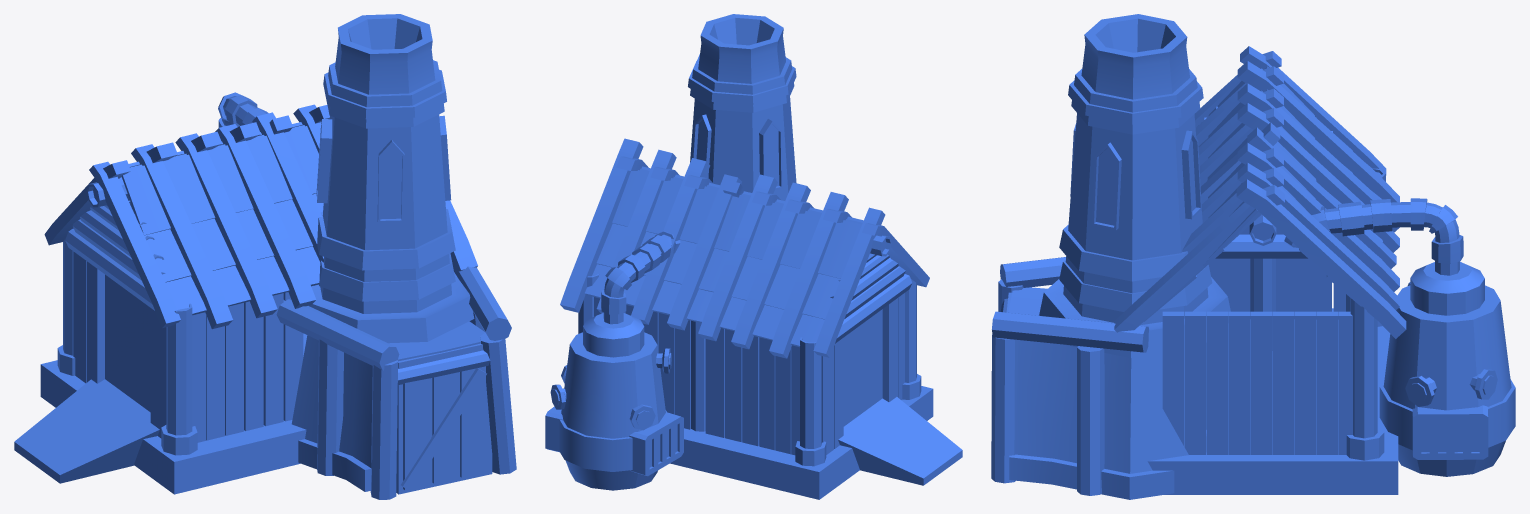
The model's file is Workshop_Variant2.fbx.
3 renders of one model, left to right at view 1: azimuth 30°, elevation 25°; view 2: azimuth 150°, elevation 25°; view 3: azimuth 270°, elevation 25°, orthographic. The views are drawn at different scales.
Visible parts, largest first — view 1: Workshop_Variant2; view 2: Workshop_Variant2; view 3: Workshop_Variant2.
Part boxes in pixels (box(x1,y1,x2,y2)): Workshop_Variant2: box(14, 14, 516, 499); Workshop_Variant2: box(545, 14, 962, 499); Workshop_Variant2: box(991, 14, 1515, 499).
Size of the model in its own units: 472 by 468 by 531.
